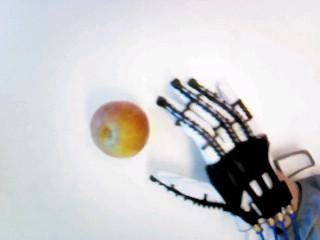apple: (89, 101, 149, 158)
hand: (147, 78, 292, 233)
